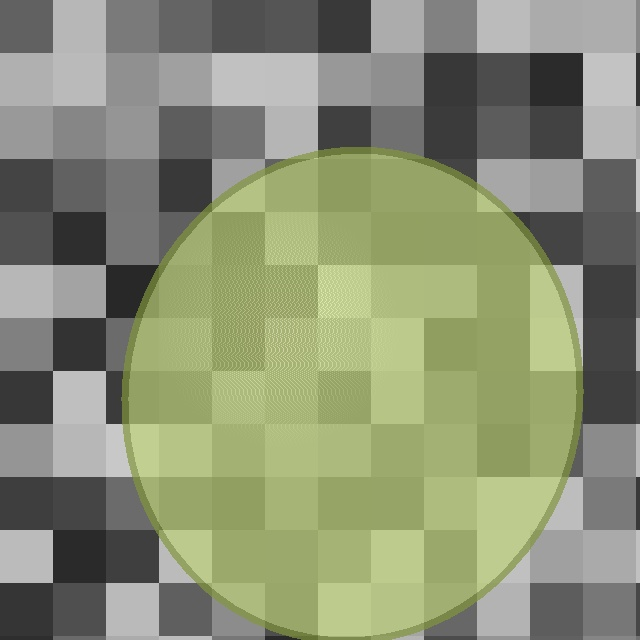lens: (125, 151, 579, 639)
